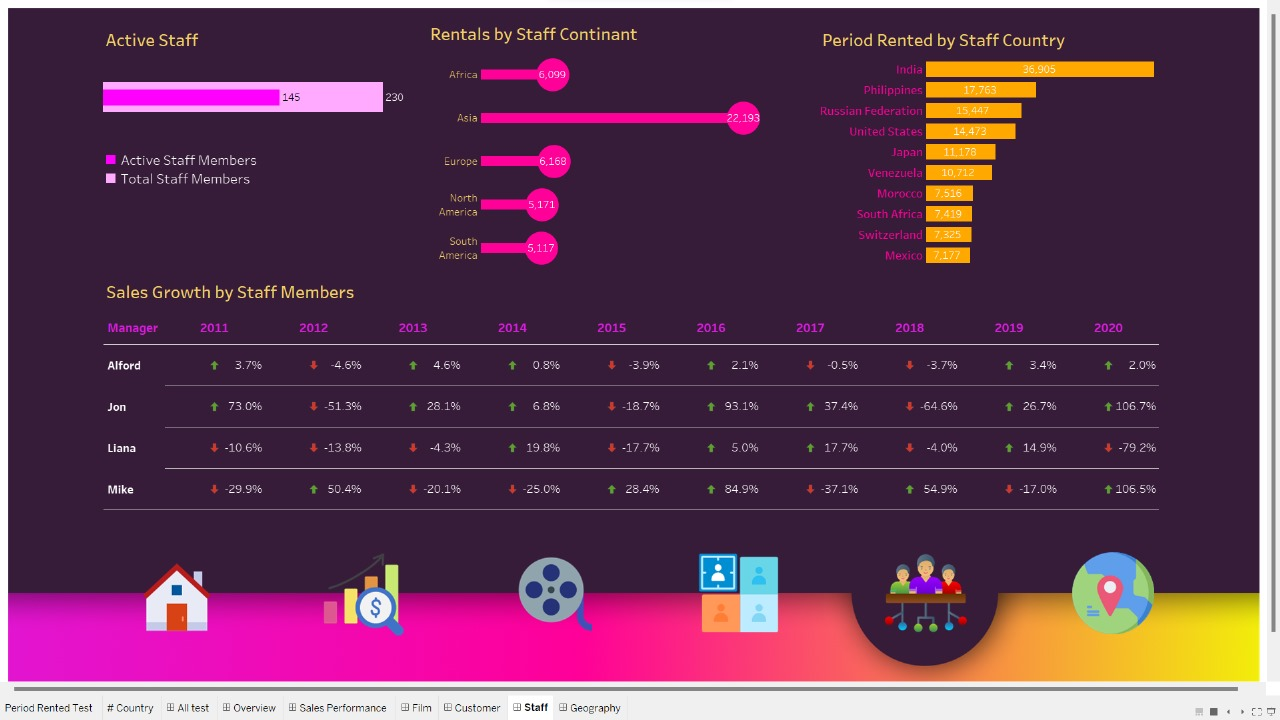

The page's visual inventory and layout, read from the dashboard file:
{"tool":"tableau","page":{"name":"Staff","canvas":[1920,1080],"ordinal":6},"visuals":[{"type":"image","param":"D:/ITI intensive code camp/Graduation Project/Sakila/Tableau/navigation bar 5 sh","box":[8,8,1904,1064]},{"type":"worksheet","title":"# Rentals by staff continant","mark":"Bar","rows":["staffContinent"],"cols":["factRental_277D3C340DA44283803A628062DB8D6C","factRental_277D3C340DA44283803A628062DB8D6C"],"box":[641,29,519,389]},{"type":"worksheet","title":"Active Staff","mark":"Bar","cols":["dimStaff_D3A51EA6C66A4FC4986B0BCC5225B586","staffIsActive"],"box":[154,38,477,282]},{"type":"worksheet","title":"Period Rented by Staff Country","mark":"Automatic","rows":["staffCountry"],"cols":["Calculation_589127193684451334"],"box":[1229,38,519,369]},{"type":"legend","title":"Active Staff","param":"[federated.0l1fx9e0quqb8p1d9259202rjaje].[:Measure Names]","box":[152,225,567,69]},{"type":"worksheet","title":"Sales Growth KPI by store manager","mark":"Shape","rows":["Calculation_589127193664176130"],"cols":["Calculation_345651338750271495"],"box":[155,416,1653,452]},{"type":"dashboard-object","box":[734,823,185,123]},{"type":"dashboard-object","box":[1017,828,180,123]},{"type":"dashboard-object","box":[1298,828,180,123]},{"type":"dashboard-object","box":[1579,828,180,123]},{"type":"dashboard-object","box":[455,830,180,123]},{"type":"dashboard-object","box":[178,834,175,122]}]}

Visuals, with their boxes on the page's 1920x1080 design canvas (x1, y1, x2, y2). These are canvas units, not pixel positions in the 1280x720 screenshot, which may show the page scaled, cropped or inside an application window:
image: {"left": 8, "top": 8, "right": 1912, "bottom": 1072}
"# Rentals by staff continant" worksheet (Bar marks): {"left": 641, "top": 29, "right": 1160, "bottom": 418}
"Active Staff" worksheet (Bar marks): {"left": 154, "top": 38, "right": 631, "bottom": 320}
"Period Rented by Staff Country" worksheet: {"left": 1229, "top": 38, "right": 1748, "bottom": 407}
"Active Staff" legend: {"left": 152, "top": 225, "right": 719, "bottom": 294}
"Sales Growth KPI by store manager" worksheet (Shape marks): {"left": 155, "top": 416, "right": 1808, "bottom": 868}
dashboard-object: {"left": 734, "top": 823, "right": 919, "bottom": 946}
dashboard-object: {"left": 1017, "top": 828, "right": 1197, "bottom": 951}
dashboard-object: {"left": 1298, "top": 828, "right": 1478, "bottom": 951}
dashboard-object: {"left": 1579, "top": 828, "right": 1759, "bottom": 951}
dashboard-object: {"left": 455, "top": 830, "right": 635, "bottom": 953}
dashboard-object: {"left": 178, "top": 834, "right": 353, "bottom": 956}
